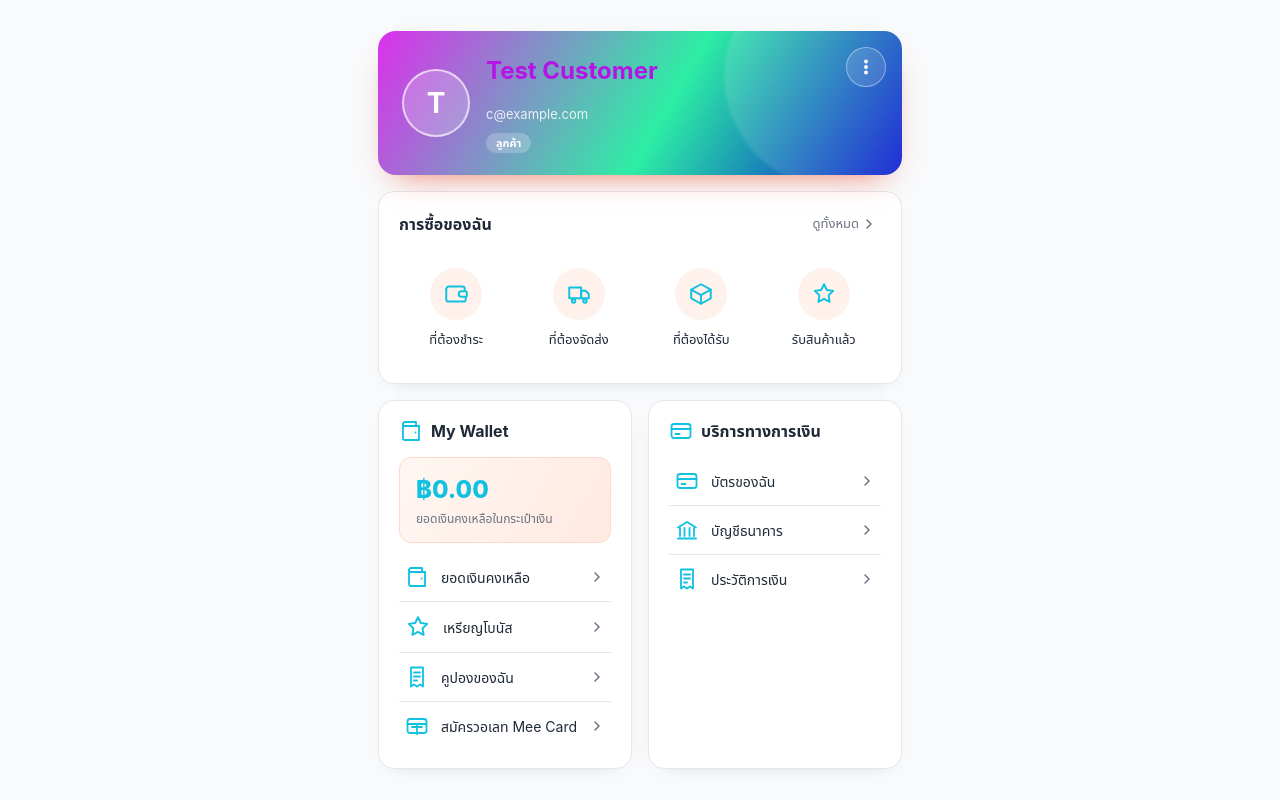
Scenario: Account -> Order Modal -> KBZPay Popup integration › ยอดรวมสรุปเป็น MMK = ผลรวมของ amount_mmk ไม่ใช่ผลรวม total_amount (THB)
What coordinates should you click on to do the following:
click the button "ที่ต้องชำระ"
I would click on:
 (456, 308)
Its box is [399, 252, 514, 365].
(page scrolled)
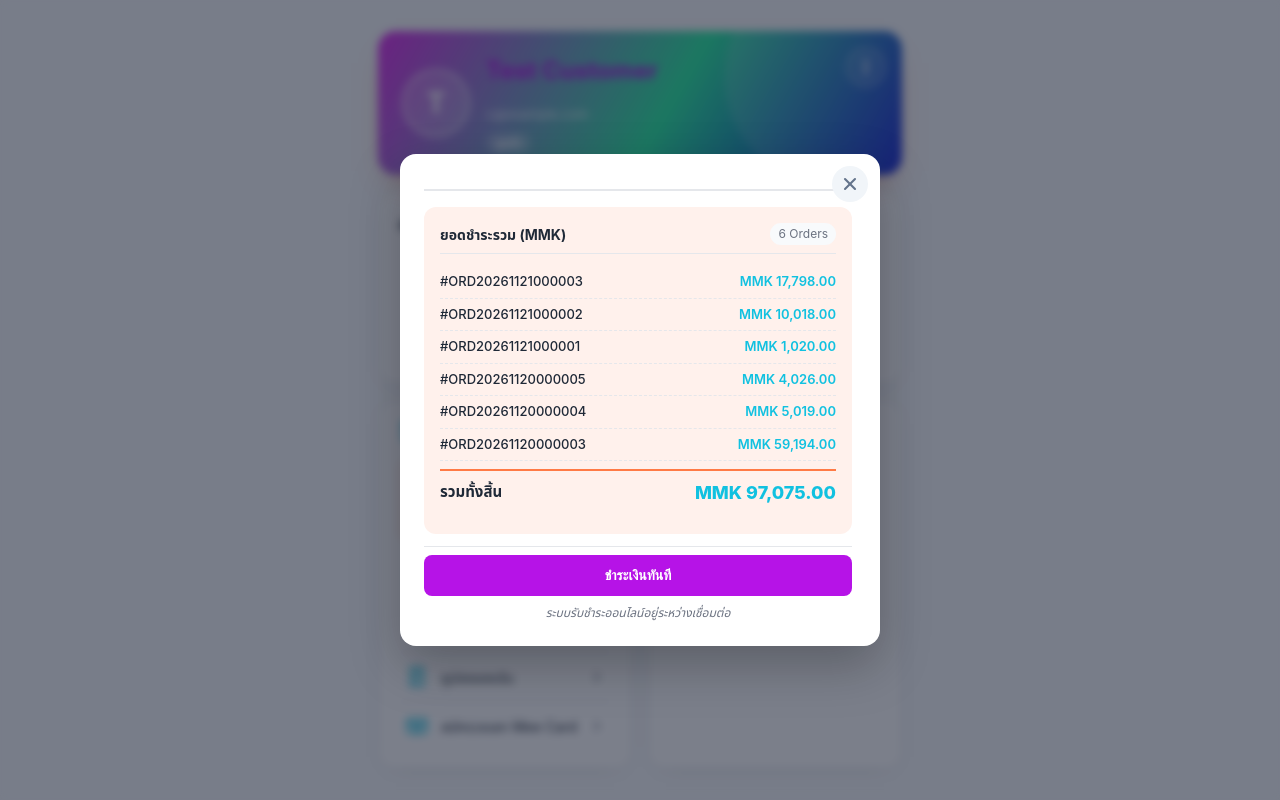
Check: the element with class "modal-container" shows "97,075", box [695, 482, 836, 503]
Check: the element with class "modal-container" shows "MMK", box [525, 226, 561, 242]
Check: the text "MMK 97,075.00" is shown, box [695, 479, 836, 506]
